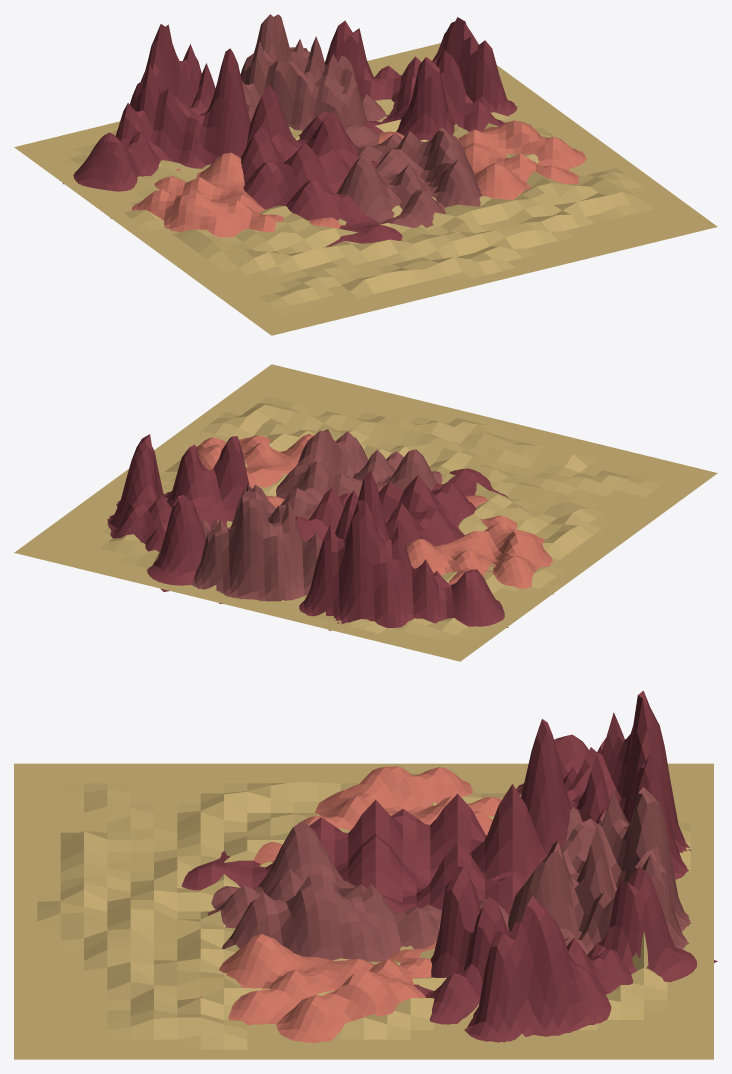
File: WorldMontagneB2.FBX
The picture shows the model from 3 angles, top to bottom: view 1: azimuth 30°, elevation 25°; view 2: azimuth 150°, elevation 25°; view 3: azimuth 270°, elevation 25°; orthographic projection. The views are drawn at different scales.
Visible parts, largest first — view 1: PlanMontagne; view 2: PlanMontagne; view 3: PlanMontagne.
Part boxes in pixels (x1=…): PlanMontagne: x1=14, y1=14, x2=717, y2=335; PlanMontagne: x1=14, y1=364, x2=717, y2=661; PlanMontagne: x1=14, y1=690, x2=717, y2=1059.
Size of the model in its own units: 315 by 78.25 by 317.
